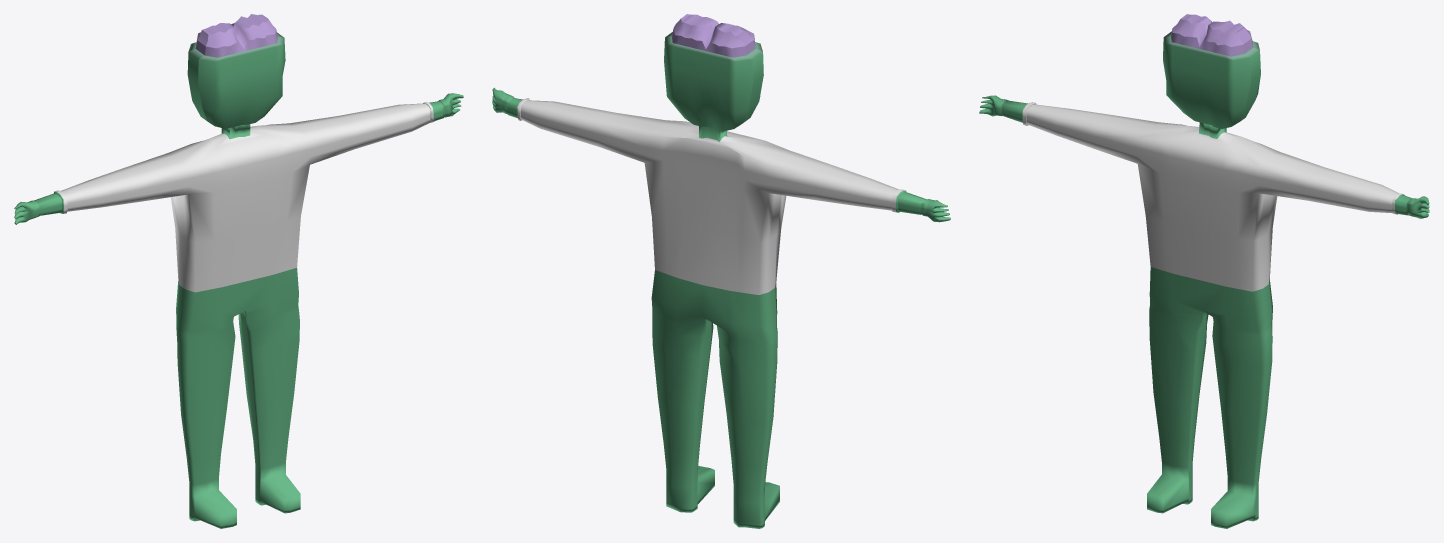
The model's file is zombie_hero_prod.fbx.
The picture shows the model from 3 angles, left to right: view 1: azimuth 30°, elevation 25°; view 2: azimuth 150°, elevation 25°; view 3: azimuth 330°, elevation 25°; orthographic projection. The views are drawn at different scales.
Visible parts, largest first — view 1: Cube.002; view 2: Cube.002; view 3: Cube.002.
Part boxes in pixels (left/top/right/bottom): Cube.002: left=14, top=14, right=463, bottom=528; Cube.002: left=492, top=14, right=950, bottom=528; Cube.002: left=979, top=14, right=1429, bottom=528.
Bounding box in the file's own units: 886 × 914 × 128.
